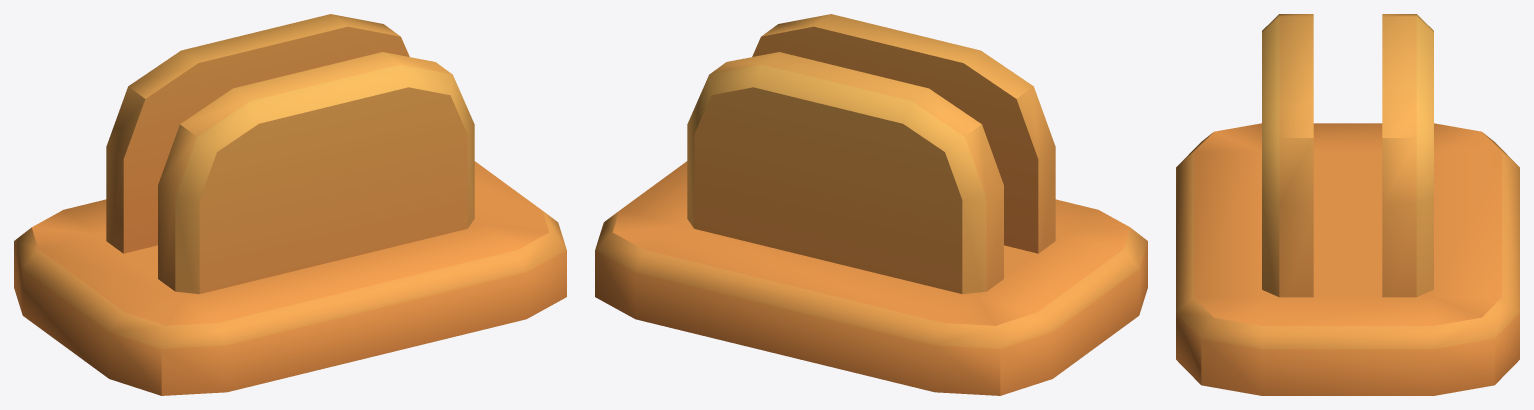
The model's file is playerstand_yellow.glb.
The picture shows the model from 3 angles, left to right: view 1: azimuth 30°, elevation 25°; view 2: azimuth 150°, elevation 25°; view 3: azimuth 270°, elevation 25°; orthographic projection.
Visible parts, largest first — view 1: playerstand_yellow; view 2: playerstand_yellow; view 3: playerstand_yellow.
Boxes of the visible parts, box(x1,y1,x2,y2) form: playerstand_yellow: box(14, 14, 566, 395); playerstand_yellow: box(595, 14, 1147, 395); playerstand_yellow: box(1176, 14, 1519, 395).
Size of the model in its own units: 0.75 by 0.375 by 0.5.
1 material, 1 textured.
